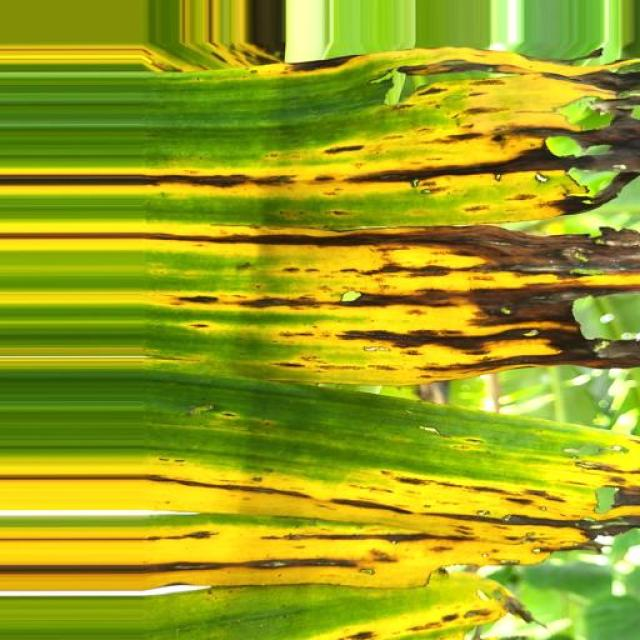Early_rust: (6, 8, 640, 628)
